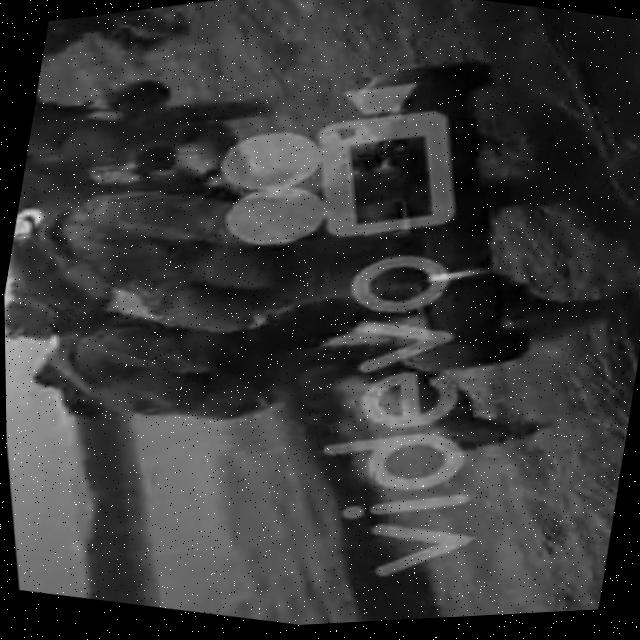rocket: (323, 43, 563, 396)
